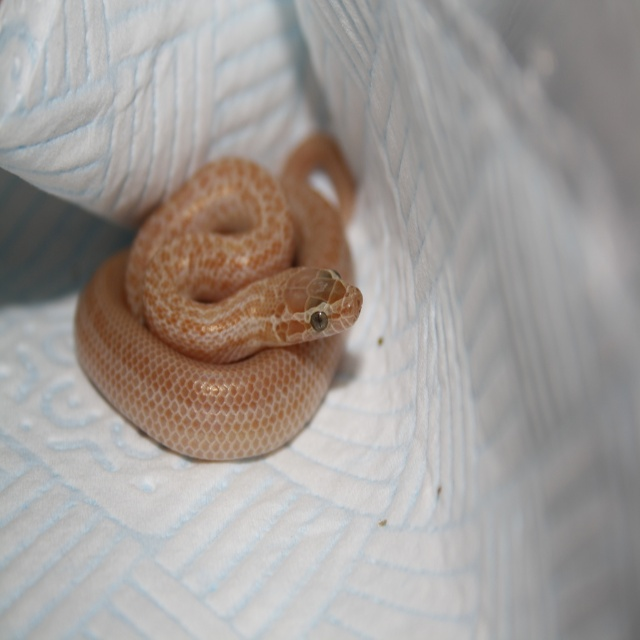Snake: (72, 128, 357, 462)
